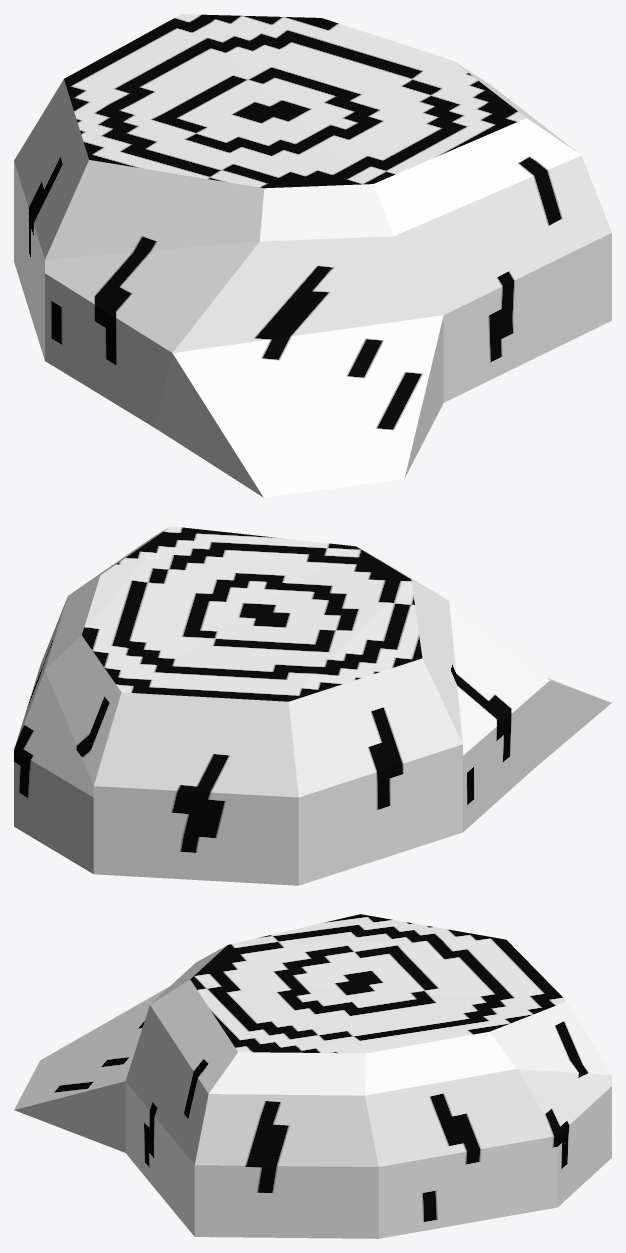
Rendered from TreeStump.fbx.
3 renders of one model, top to bottom at view 1: azimuth 30°, elevation 25°; view 2: azimuth 150°, elevation 25°; view 3: azimuth 270°, elevation 25°, orthographic. The views are drawn at different scales.
Visible parts, largest first — view 1: Cylinder; view 2: Cylinder; view 3: Cylinder.
Part boxes in pixels (box(x1,y1,x2,y2)): Cylinder: box(14, 14, 611, 497); Cylinder: box(14, 526, 611, 885); Cylinder: box(14, 914, 611, 1238).
Size of the model in its own units: 290 by 116 by 390.
Materials: 1 (1 with a texture image).
